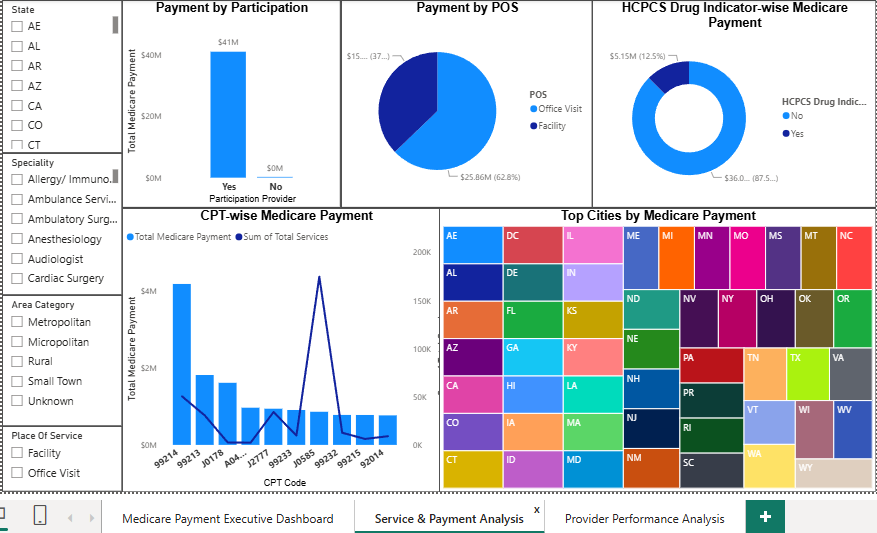

Layout of this report page (visuals, bound fields, positions):
{"tool":"powerbi","page":{"name":"Service & Payment Analysis","canvas":[1280,720],"ordinal":1},"visuals":[{"type":"clusteredColumnChart","title":"Payment by Participation","fields":{"Category":["Participating Provider wise Medicare payment (Pivot Table 2).Participation status"],"Y":["Sum(Participating Provider wise Medicare payment (Pivot Table 2). Total Medicare Payment)"]},"box":[176,0,320,304],"z":0},{"type":"donutChart","title":"HCPCS Drug Indicator-wise Medicare Payment","fields":{"Category":["HCPCS Drug Indicator wise Medicare payment.HCPCS Drug Indicator"],"Y":["Sum(HCPCS Drug Indicator wise Medicare payment. Total Medicare Payment)"]},"box":[864,0,416,304],"z":1000},{"type":"actionButton","box":[0,0,100,40],"z":2000},{"type":"lineClusteredColumnComboChart","title":"CPT-wise Medicare Payment","fields":{"Category":["CPT wise  Medicare Payment (Pivot Table 2).CPT Code"],"Y":["Sum(CPT wise  Medicare Payment (Pivot Table 2). Total Medicare Payment)"],"Y2":["Sum(CPT wise  Medicare Payment (Pivot Table 2).Total Services)"]},"box":[176,304,480,416],"z":3000},{"type":"treemap","title":"Top Cities by Medicare Payment","fields":{"Group":["State-wise Total Medicare Payment (Pivot Table 1).Renderring State"],"Values":["Sum(CPT wise  Medicare Payment (Pivot Table 2). Total Medicare Payment)"]},"box":[640,304,640,416],"z":4000},{"type":"pieChart","title":"Payment by POS","fields":{"Category":["Place of service wise  Medicare Payment (Pivot Table 2).POS"],"Y":["Sum(Place of service wise  Medicare Payment (Pivot Table 2). Total Medicare Payment)"]},"box":[496,0,368,304],"z":5000},{"type":"slicer","fields":{"Values":["Transformed Data.Rendering Provider State"]},"box":[0,0,176,224],"z":6000},{"type":"slicer","fields":{"Values":["Transformed Data.Rendering Provider Type  "]},"box":[0,224,176,208],"z":7000},{"type":"slicer","fields":{"Values":["Transformed Data.Area Category"]},"box":[0,432,176,192],"z":8000},{"type":"slicer","fields":{"Values":["Transformed Data.Place_Of_Service"]},"box":[0,624,176,96],"z":9000}]}

Visuals, with their boxes in screenshot pixels (x1, y1, x2, y2):
"Payment by Participation" clusteredColumnChart: <box>121,0,337,205</box>
"HCPCS Drug Indicator-wise Medicare Payment" donutChart: <box>586,0,867,205</box>
actionButton: <box>2,0,70,27</box>
"CPT-wise Medicare Payment" lineClusteredColumnComboChart: <box>121,205,446,486</box>
"Top Cities by Medicare Payment" treemap: <box>435,205,867,486</box>
"Payment by POS" pieChart: <box>337,0,586,205</box>
slicer - Transformed Data.Rendering Provider State: <box>2,0,121,151</box>
slicer - Transformed Data.Rendering Provider Type  : <box>2,151,121,292</box>
slicer - Transformed Data.Area Category: <box>2,292,121,422</box>
slicer - Transformed Data.Place_Of_Service: <box>2,422,121,486</box>
